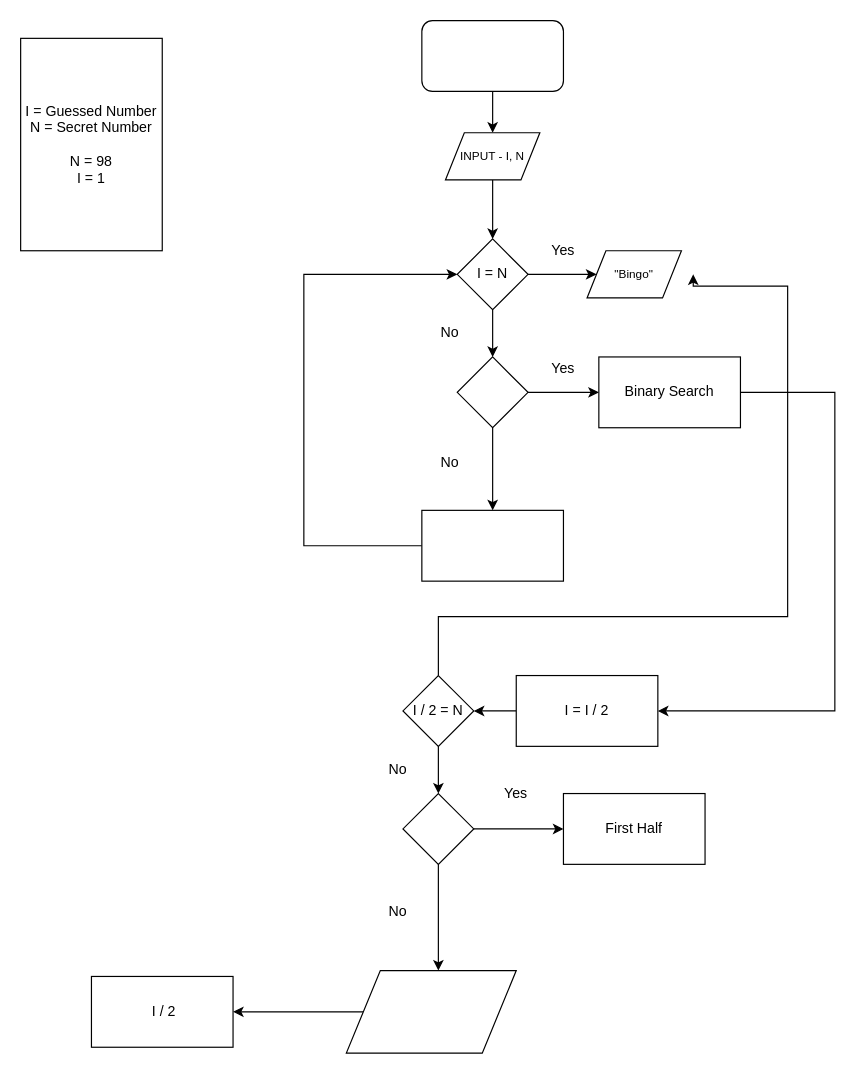
The diagram is 865 pixels wide and 1074 high, and some of its shapes have lost their labels. Here are the shapes that lost their labels. From the top down, the box of each, then its label:
(421, 19, 563, 91): Start
(456, 356, 528, 428): I > N
(421, 509, 563, 581): I = I * 100
(402, 792, 474, 864): I / 2 > N
(345, 969, 516, 1053): "No N is bigger"
